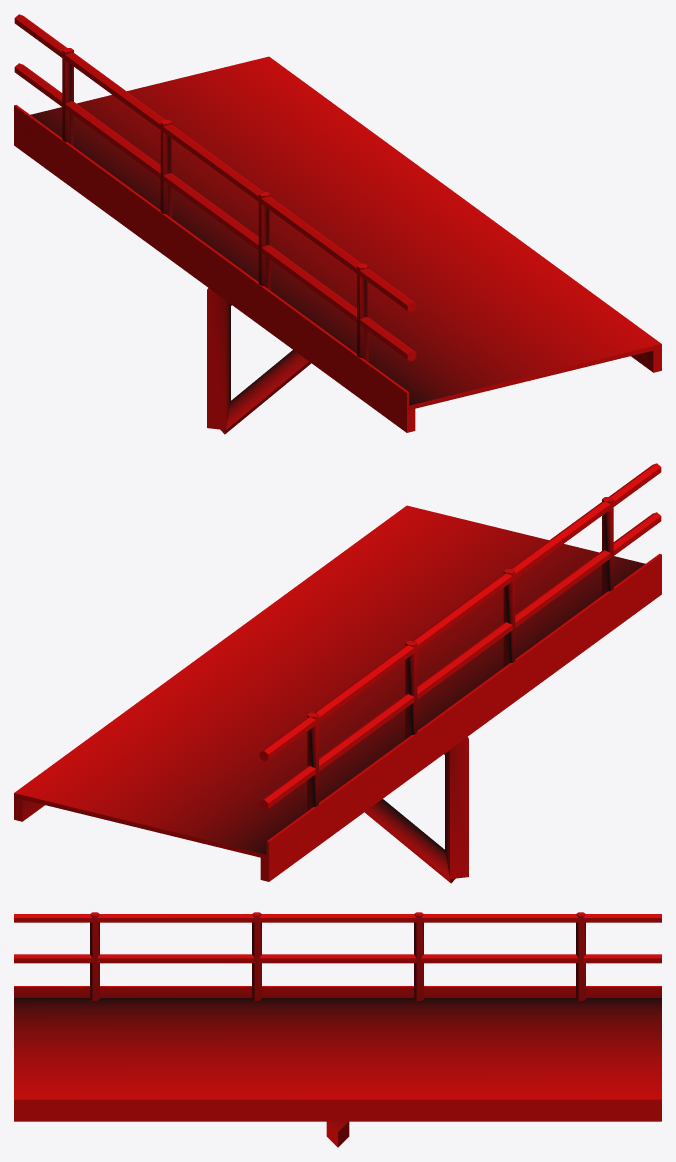
The model's file is wall_catwalk.glb.
The picture shows the model from 3 angles, top to bottom: view 1: azimuth 30°, elevation 25°; view 2: azimuth 150°, elevation 25°; view 3: azimuth 270°, elevation 25°; orthographic projection. The views are drawn at different scales.
Parts seen in each view (by area): view 1: wall_catwalk; view 2: wall_catwalk; view 3: wall_catwalk.
Boxes of the visible parts, <box> form: wall_catwalk: <box>14,14,661,434</box>; wall_catwalk: <box>14,463,661,883</box>; wall_catwalk: <box>14,912,661,1147</box>.
Size of the model in its own units: 3.04 by 3.13 by 8.
